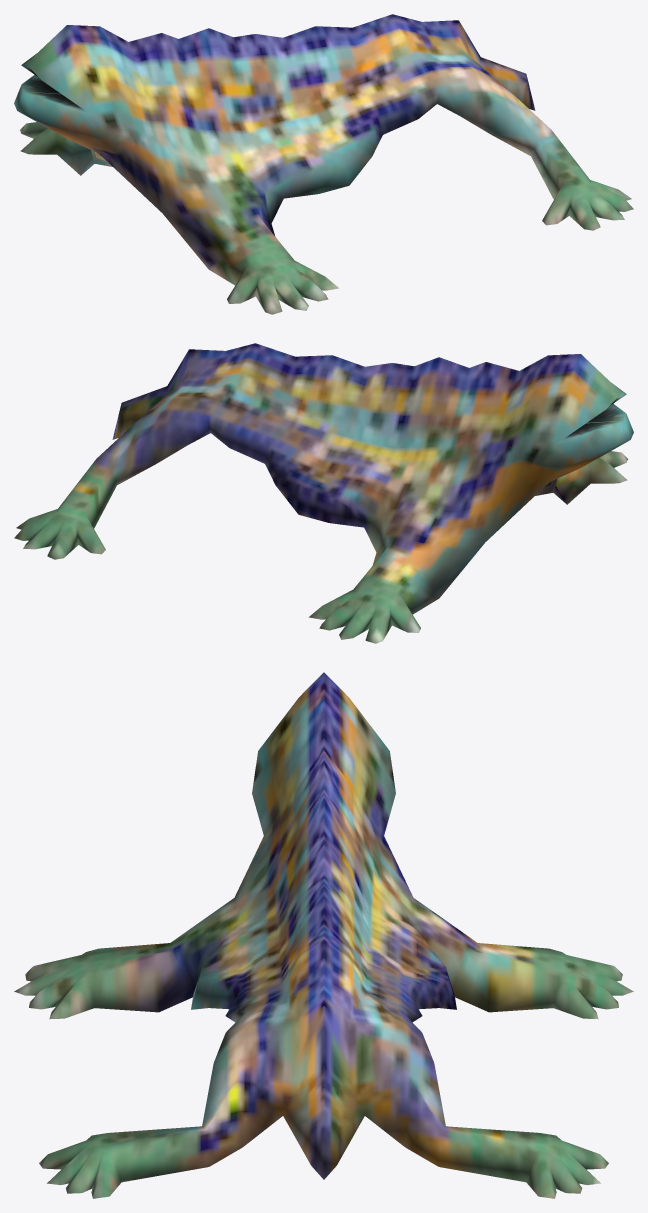
Rendered from int_jhn_lizard.dae.
3 views of the same model, one above another, from view 1: azimuth 30°, elevation 25°; view 2: azimuth 150°, elevation 25°; view 3: azimuth 270°, elevation 25° (orthographic). The views are drawn at different scales.
Visible parts, largest first — view 1: int_jhn_lizard; view 2: int_jhn_lizard; view 3: int_jhn_lizard.
Boxes of the visible parts, <box> form: int_jhn_lizard: <box>14,14,633,314</box>; int_jhn_lizard: <box>14,343,633,643</box>; int_jhn_lizard: <box>14,672,633,1198</box>.
Bounding box in the file's own units: 35.87 × 14.33 × 31.37.
Materials: 1 (1 with a texture image).
